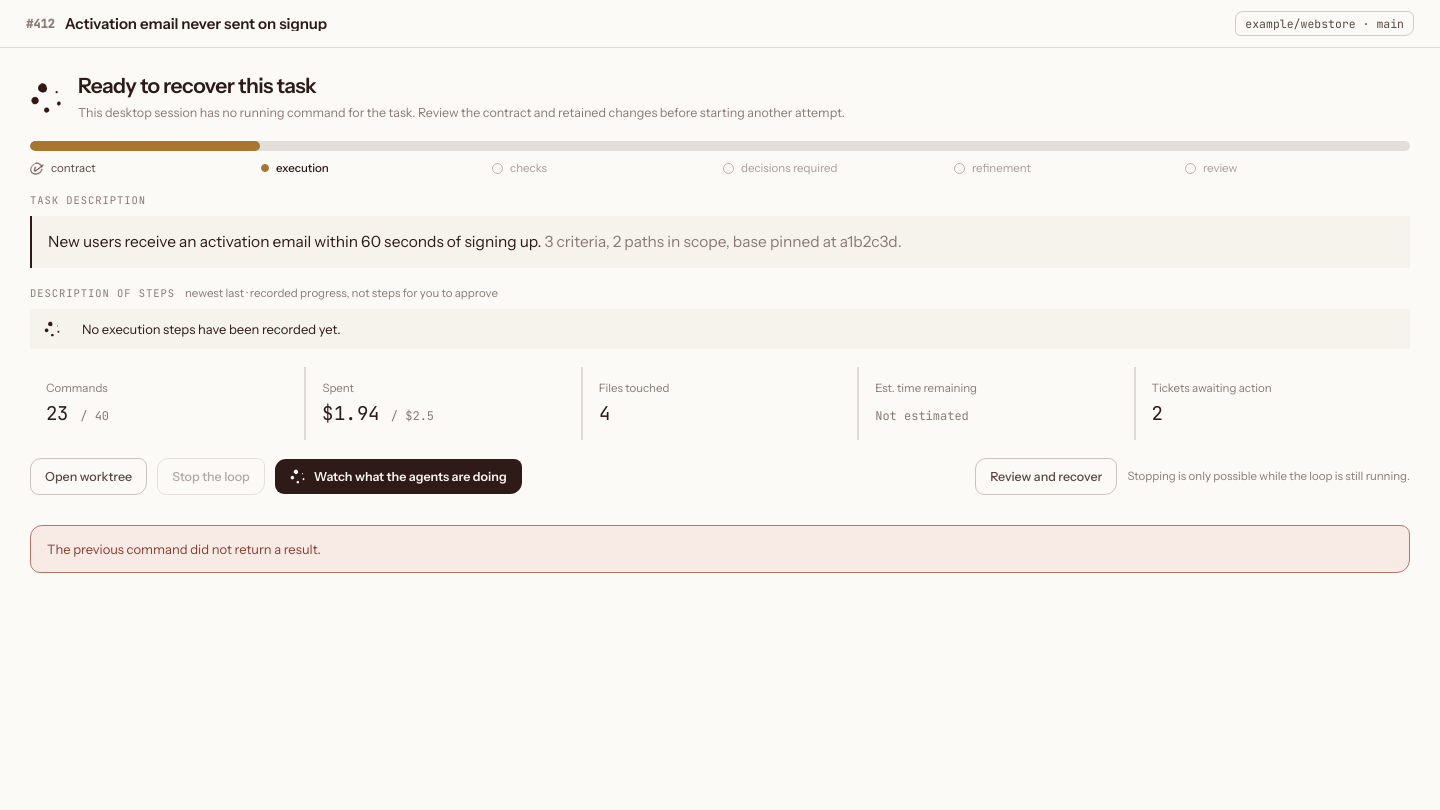
it: interactive desktop flows › offers recovery for an idle provisioning task and preserves an active interrupted run
expect the heading "Ready to recover this task" is shown: met, box top-left (78, 73), bottom-right (316, 98)
expect the button "Stop the loop" is disabled: met, box top-left (157, 458), bottom-right (265, 494)
Click the button "Review and recover".
click(1046, 476)  # box top-left (975, 458), bottom-right (1117, 494)
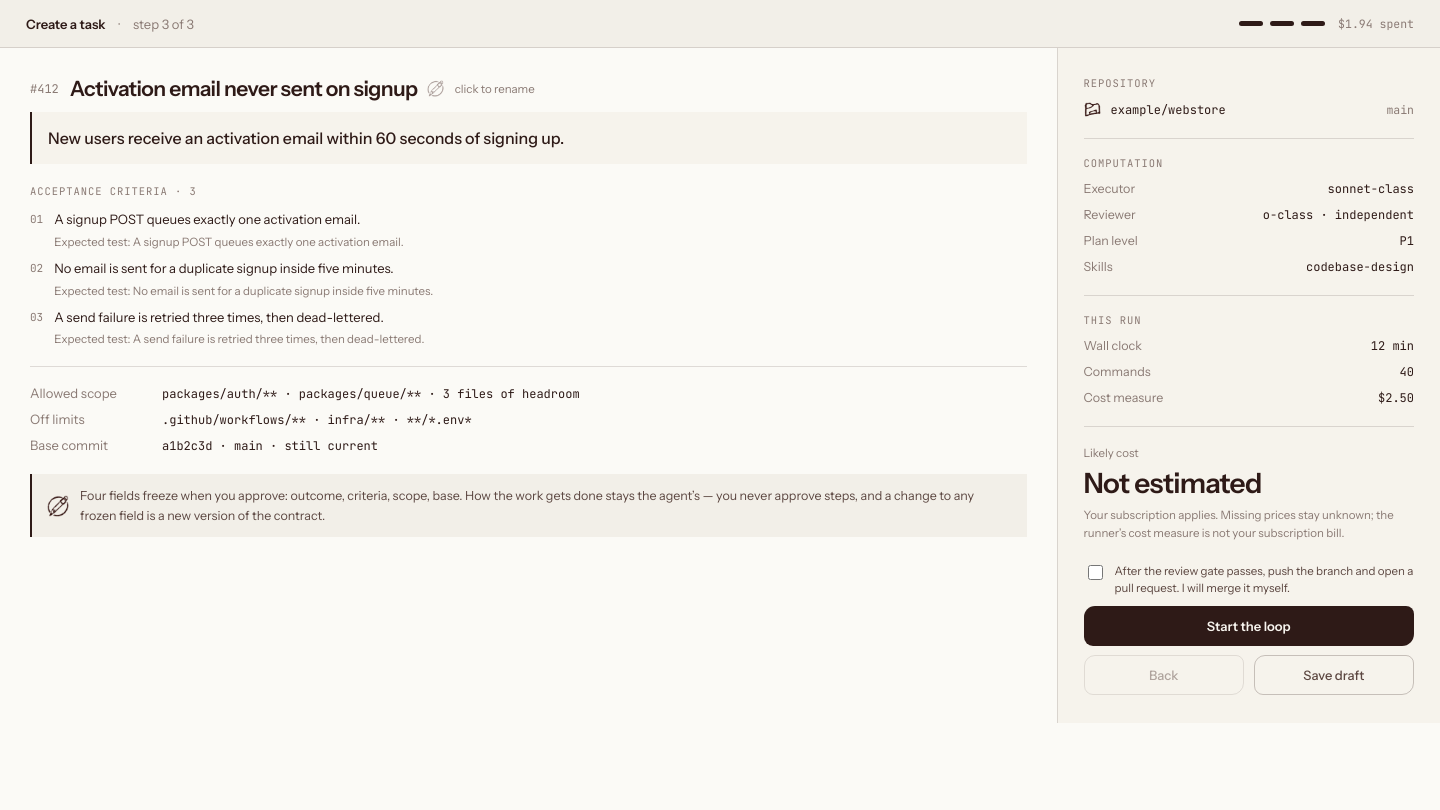
expect the button "Start the loop" is shown: met, box top-left (1084, 606), bottom-right (1414, 646)
